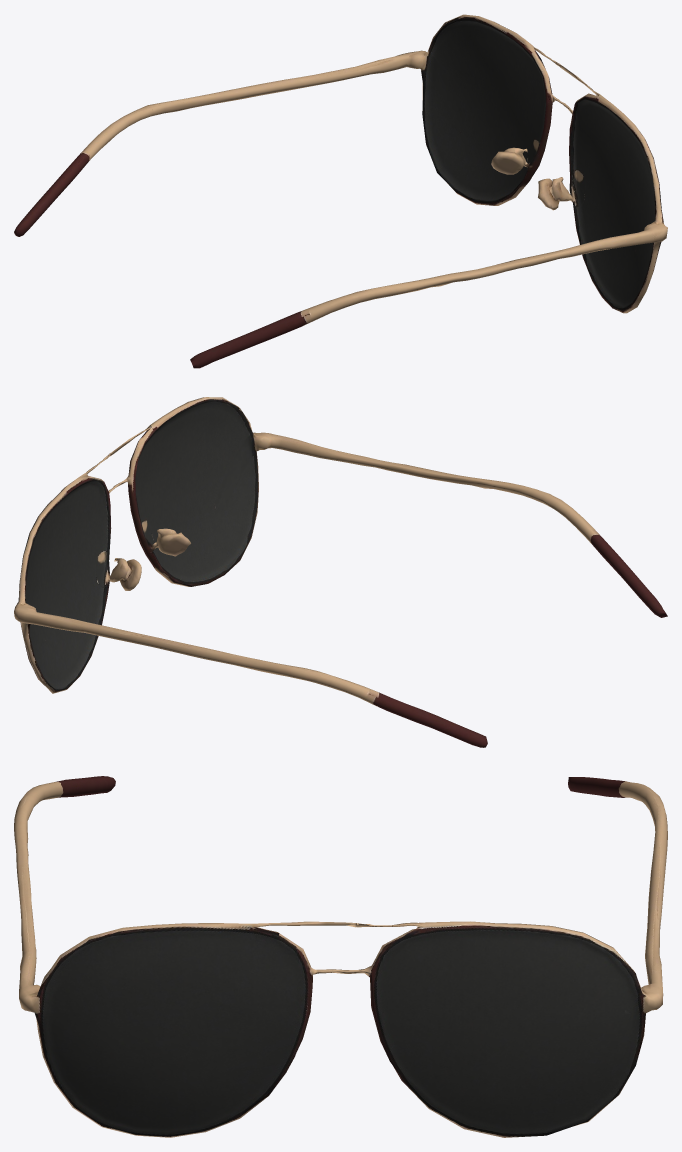
Rendered from tripo_convert_ab0172d8-dd32-4a6c-bc0c-409605a7b634.fbx.
The picture shows the model from 3 angles, top to bottom: view 1: azimuth 30°, elevation 25°; view 2: azimuth 150°, elevation 25°; view 3: azimuth 270°, elevation 25°; orthographic projection. The views are drawn at different scales.
Parts seen in each view (by area): view 1: tripo_node_ab0172d8; view 2: tripo_node_ab0172d8; view 3: tripo_node_ab0172d8.
Part boxes in pixels (x1=…): tripo_node_ab0172d8: x1=14, y1=14, x2=667, y2=368; tripo_node_ab0172d8: x1=14, y1=397, x2=667, y2=747; tripo_node_ab0172d8: x1=14, y1=776, x2=667, y2=1137.
Size of the model in its own units: 0.9971 by 0.3638 by 0.9305.
1 material, 1 textured.
